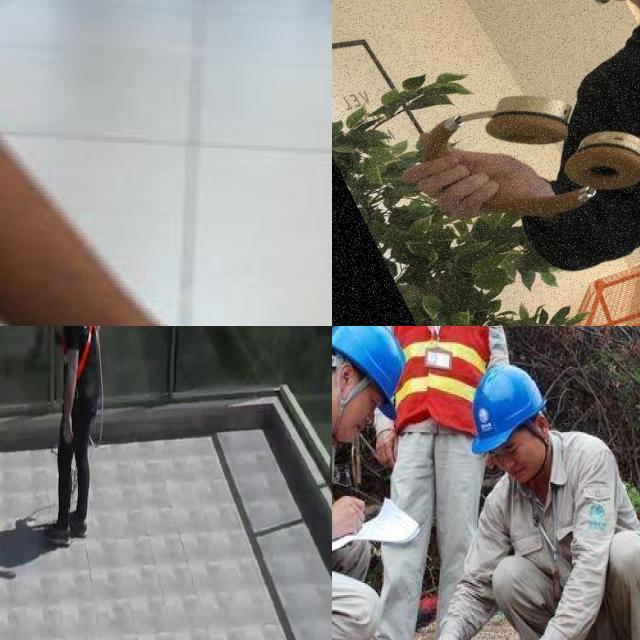Harness: (79, 326, 100, 378)
No_Ear-Protection: (335, 358, 356, 394), (535, 411, 551, 439)
No_Glasses: (504, 436, 523, 461)
face_nomask: (333, 367, 385, 444), (482, 428, 545, 490)
hand_glove: (497, 624, 578, 640), (427, 619, 469, 640)
hand_noglove: (332, 494, 372, 540), (370, 428, 399, 470)
head_helmet: (332, 326, 401, 383), (477, 368, 539, 428)
person: (445, 0, 640, 326), (477, 368, 640, 640), (390, 326, 472, 636), (332, 326, 392, 640)
vest: (403, 326, 477, 418)
